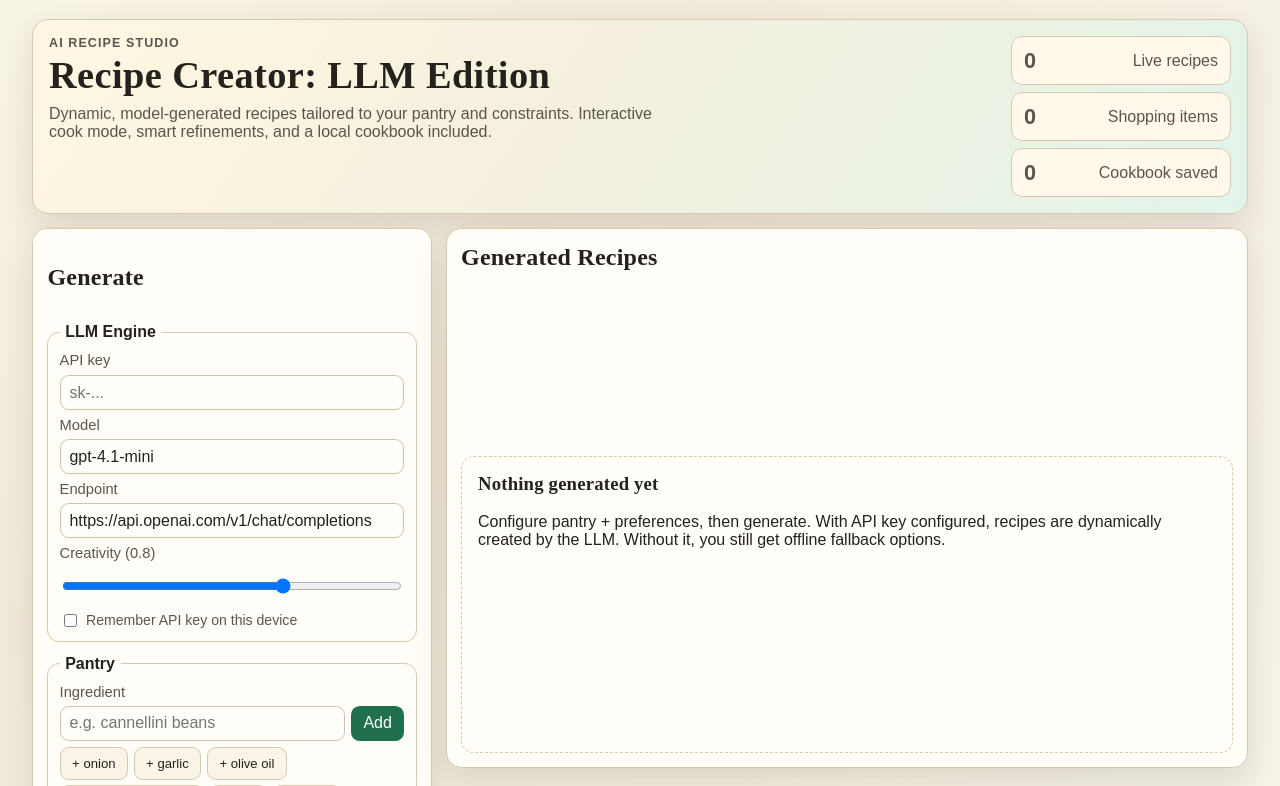
Test: App LLM interactions › refines the selected recipe with follow-up instruction
Type "sk-test-key" into the password field labelled "API key". click: (232, 393)
box: left=60, top=375, right=404, bottom=410
(page scrolled)
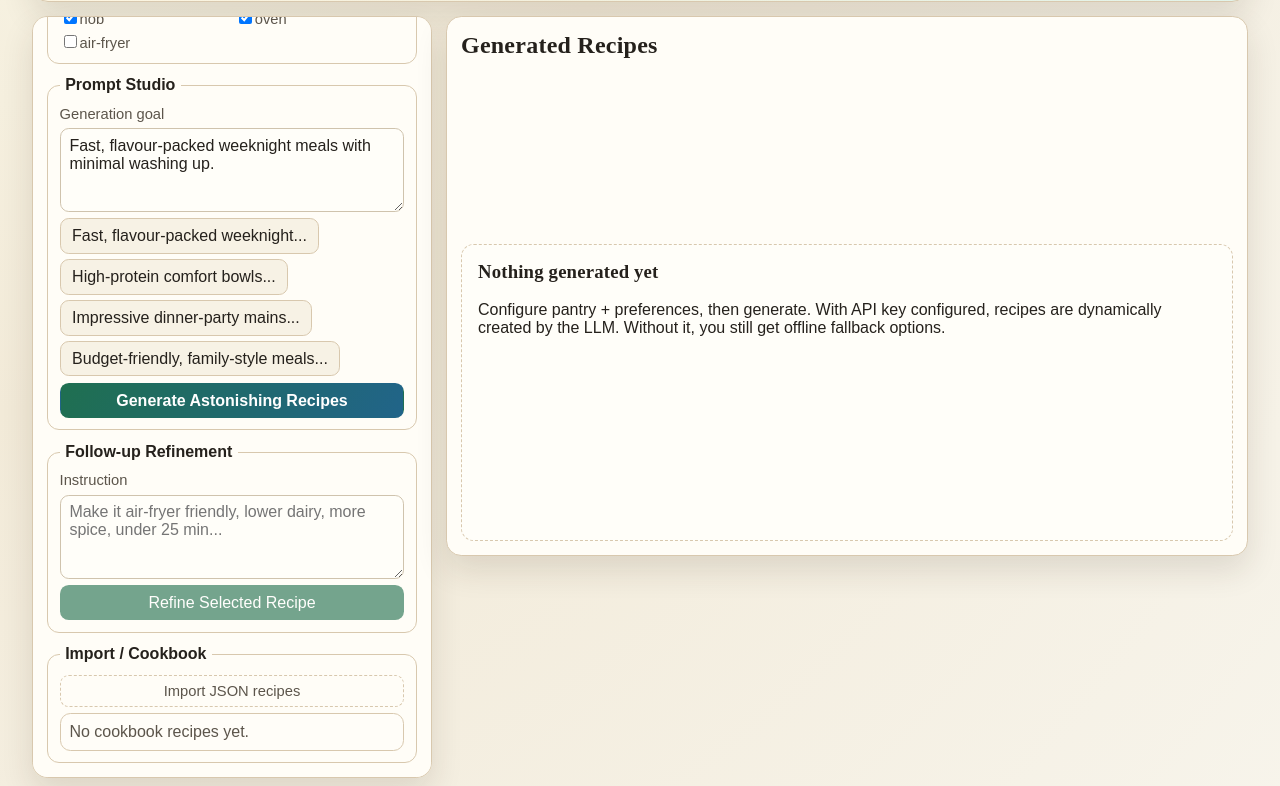
Click the button "Generate Astonishing Recipes". click: click(232, 400)
box: left=60, top=383, right=404, bottom=418
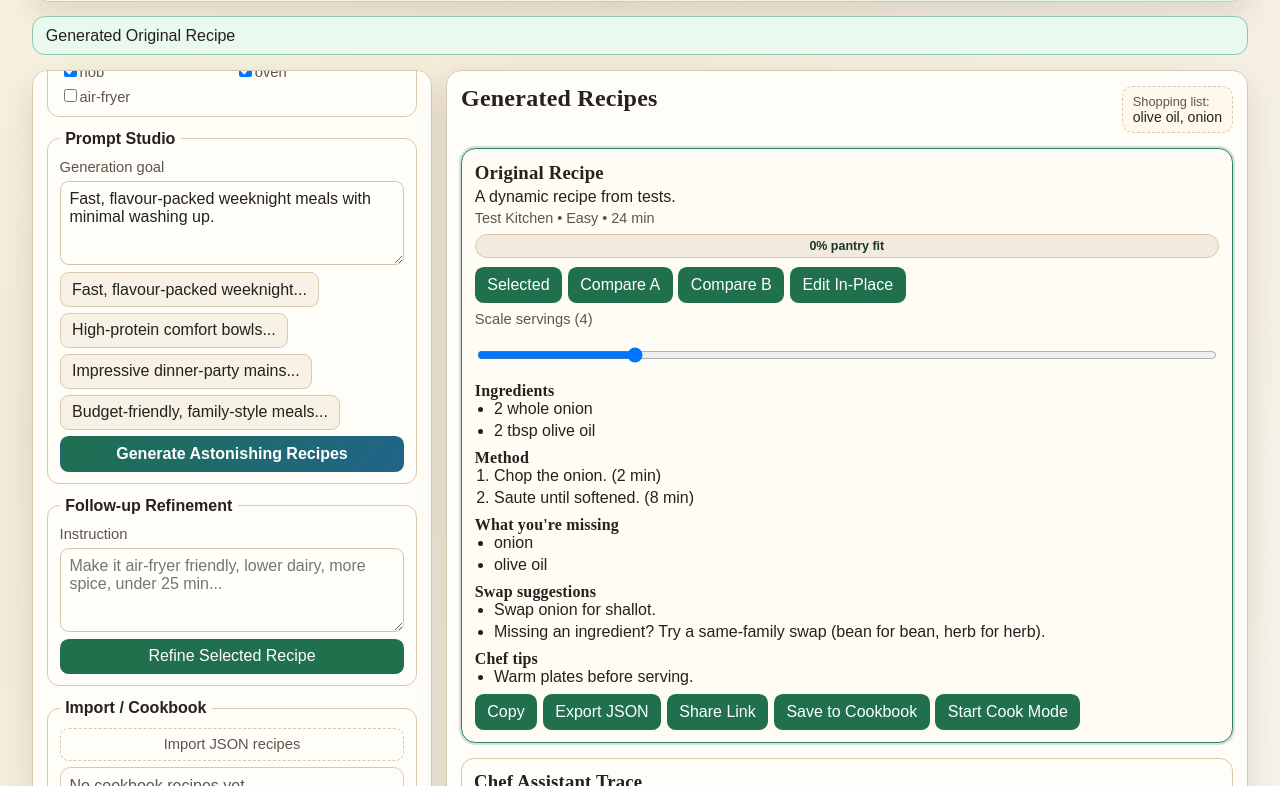
expect the heading "Original Recipe" is shown: met, box left=475, top=162, right=604, bottom=183
Type "Make it spicier and under 20 minutes." into the text box labelled "Instruction". click: (232, 590)
box: left=60, top=548, right=404, bottom=632
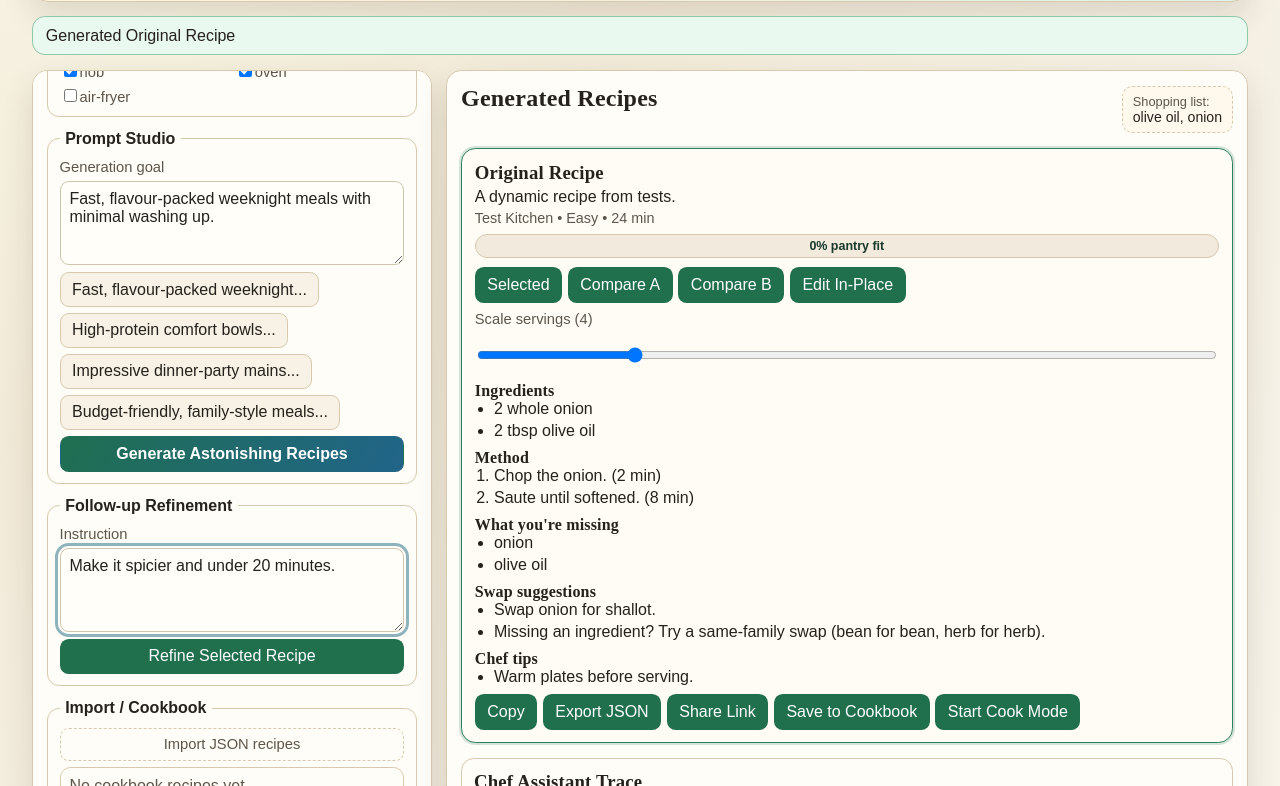
Click the button "Refine Selected Recipe". click: click(232, 656)
box: left=60, top=639, right=404, bottom=674
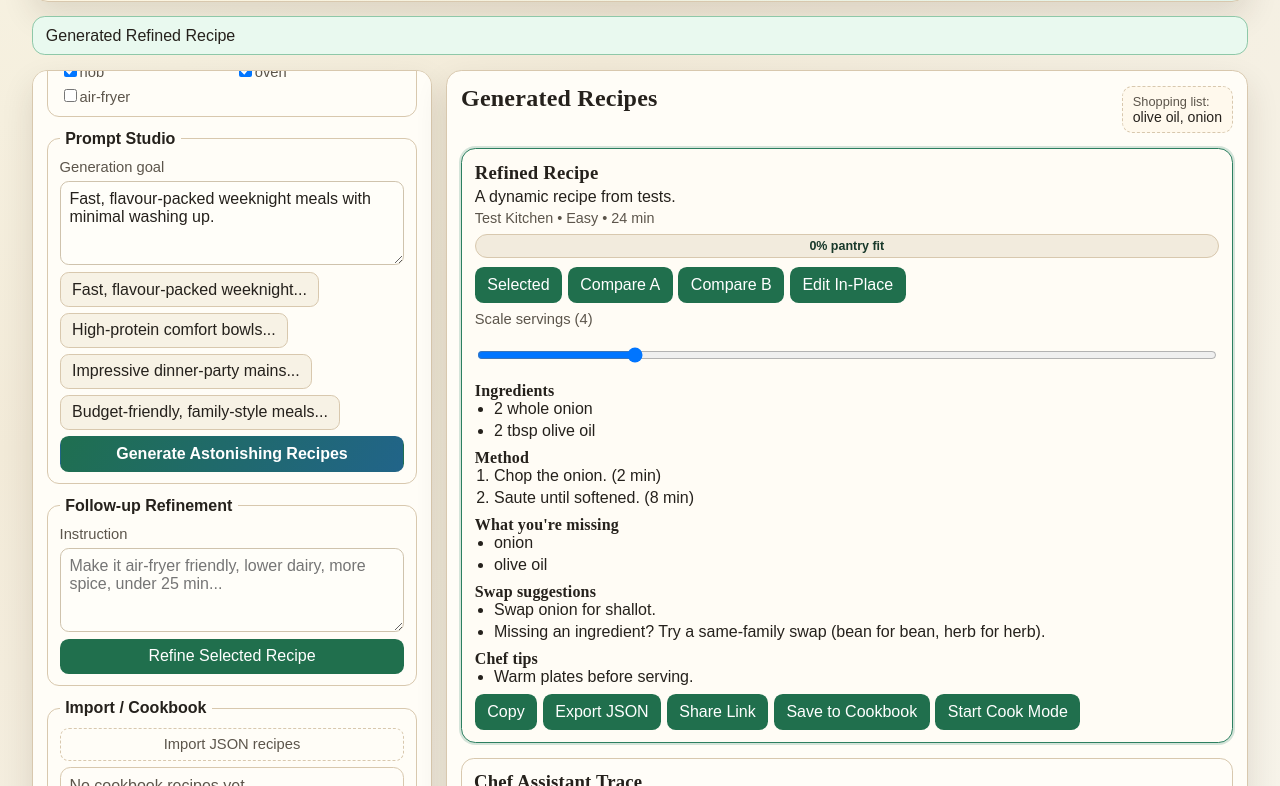
expect the heading "Refined Recipe" is shown: met, box left=475, top=162, right=598, bottom=183
